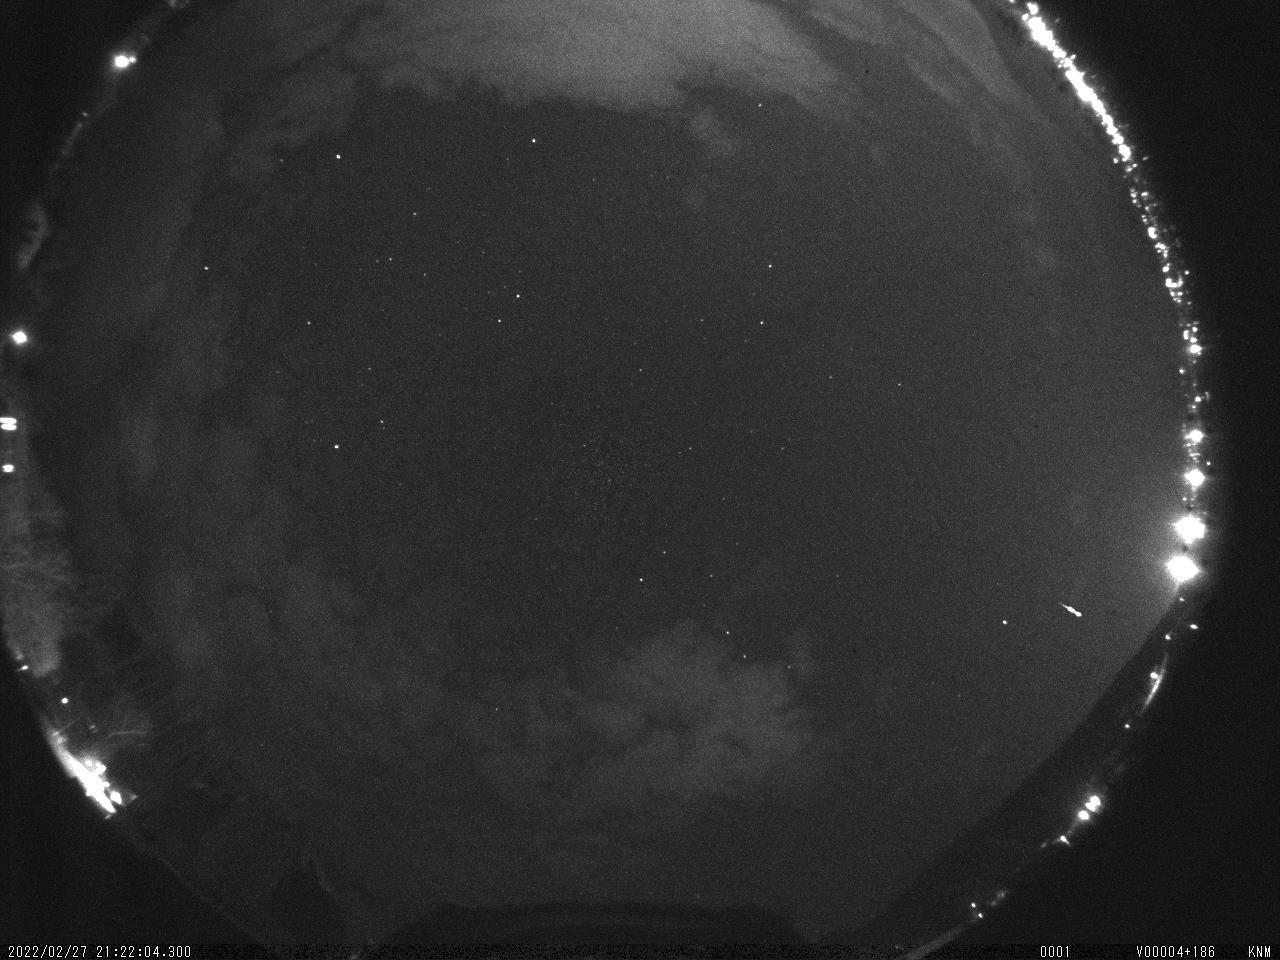Meteor: (1058, 597, 1085, 618)
